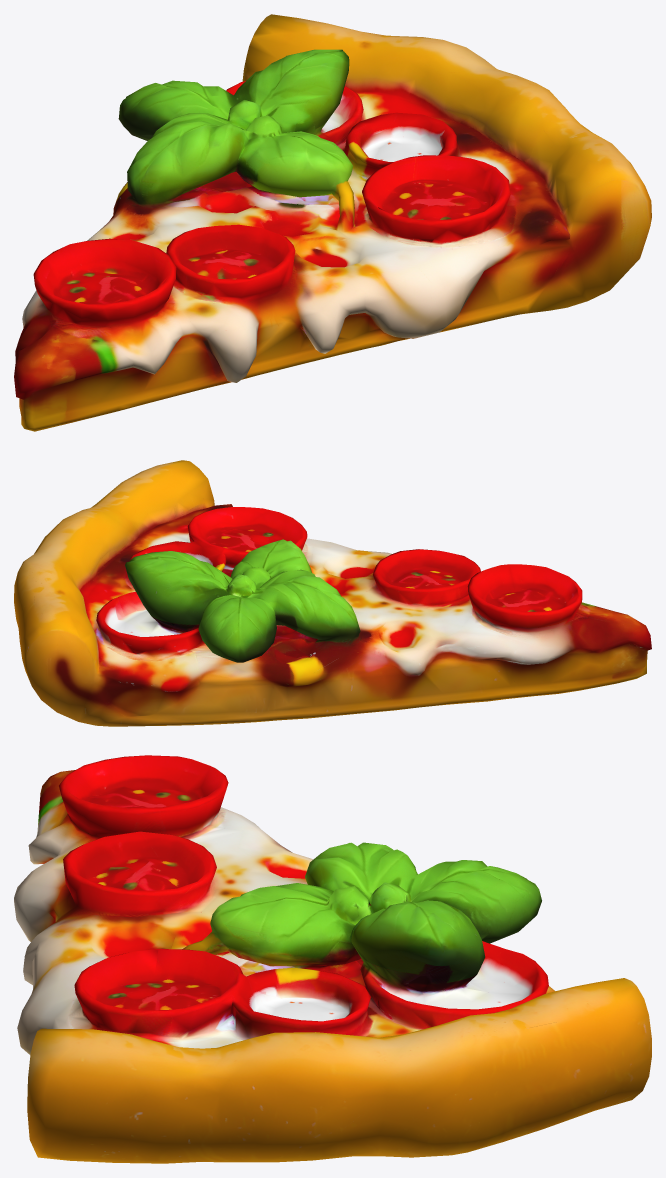
The model's file is pizza_slice-2026-03-30-081556.glb.
The picture shows the model from 3 angles, top to bottom: view 1: azimuth 30°, elevation 25°; view 2: azimuth 150°, elevation 25°; view 3: azimuth 270°, elevation 25°; orthographic projection. The views are drawn at different scales.
Bounding box in the file's own units: 1.91 × 0.449 × 1.41.
Materials: 1 (1 with a texture image).
